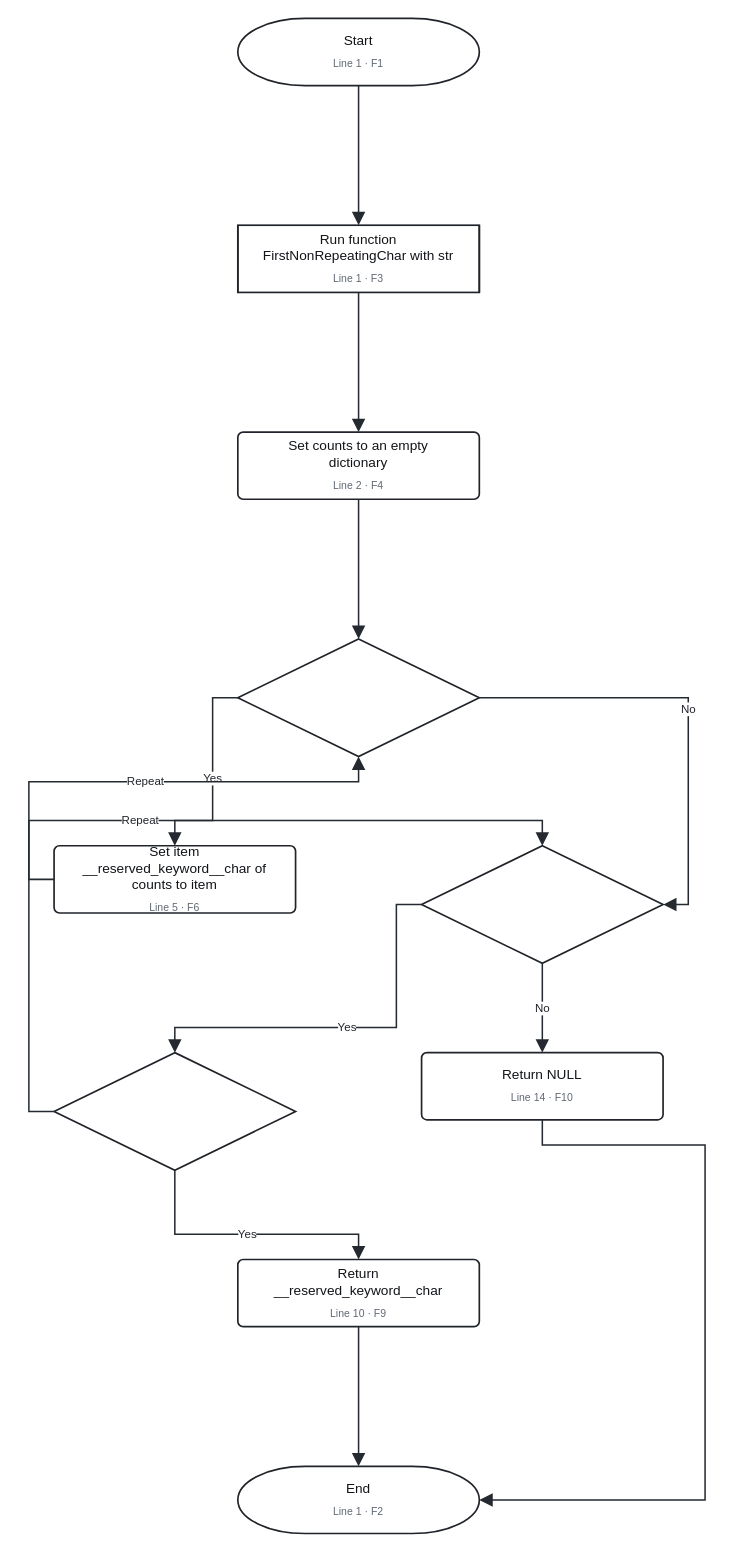
This 736x1553 diagram has some shape labels left out. The shapes that lost their labels are listed below. From the top down, each one's centre as x and y in pixels, then its label:
the point at 358,697: For each __reserved_keyword__char in str Line 4 · F5
the point at 541,904: For each __reserved_keyword__char in str Line 8 · F7
the point at 174,1111: Item __reserved_keyword__char of counts is equal to 1? Line 9 · F8
